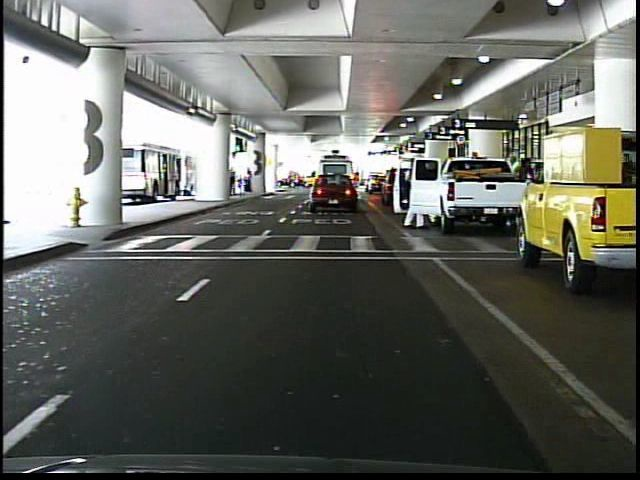person: (403, 151, 429, 231), (227, 163, 239, 198), (244, 165, 257, 195)
